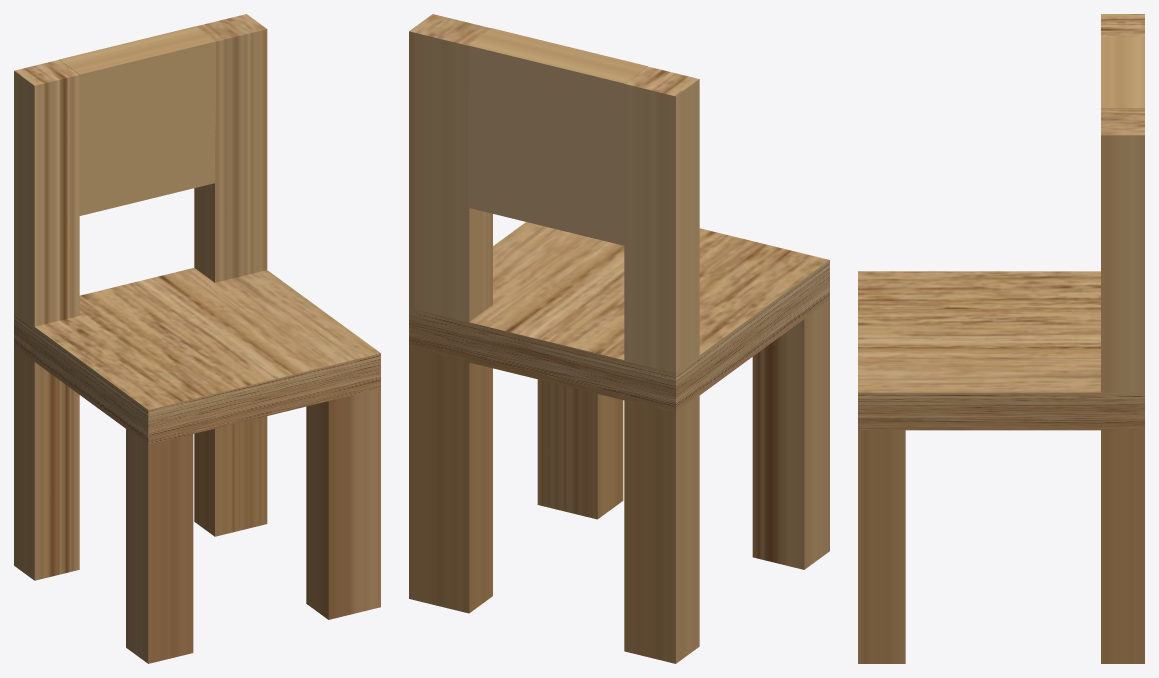
The model's file is kursi3.glb.
3 renders of one model, left to right at view 1: azimuth 30°, elevation 25°; view 2: azimuth 150°, elevation 25°; view 3: azimuth 270°, elevation 25°, orthographic. The views are drawn at different scales.
Parts seen in each view (by area): view 1: Cube; view 2: Cube; view 3: Cube.
Part boxes in pixels (left/top/right/bottom): Cube: left=14, top=14, right=380, bottom=663; Cube: left=409, top=14, right=829, bottom=663; Cube: left=858, top=14, right=1144, bottom=663.
Size of the model in its own units: 1.03 by 2.08 by 1.03.
1 material, 1 textured.
